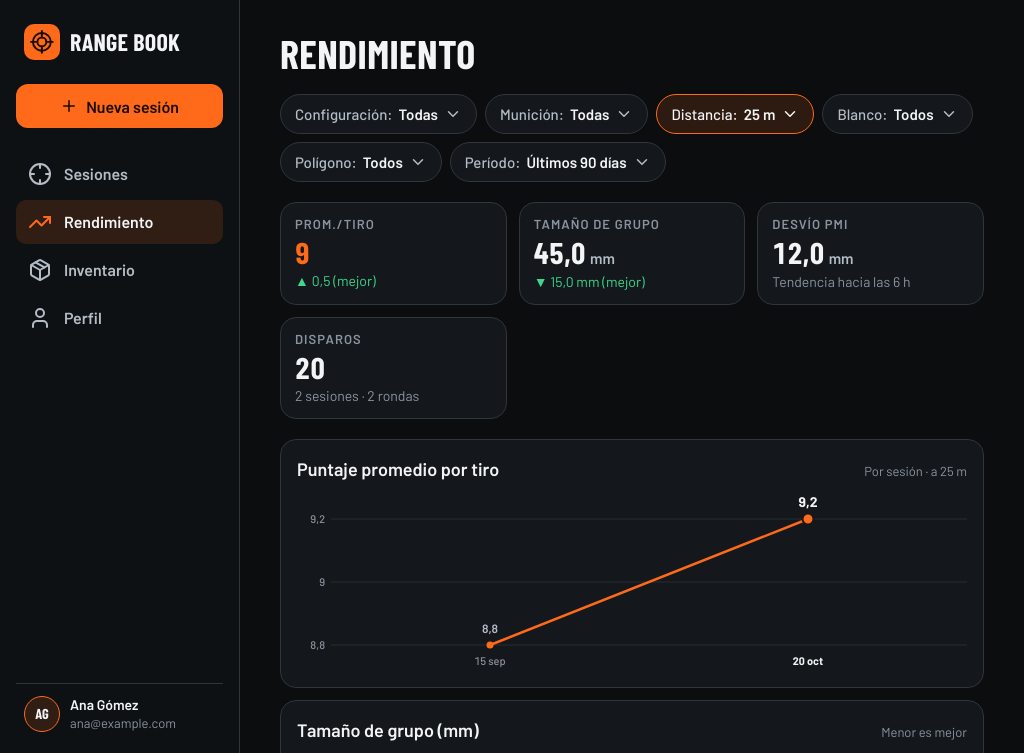
Test case: PerformanceScreen › en mobile, cada chip abre un sheet; elegir una opción filtra y queda en la URL
The width and height of the screenshot is (1024, 753).
Click the button "Munición: Todas" at (567, 114), box [485,94,648,134]
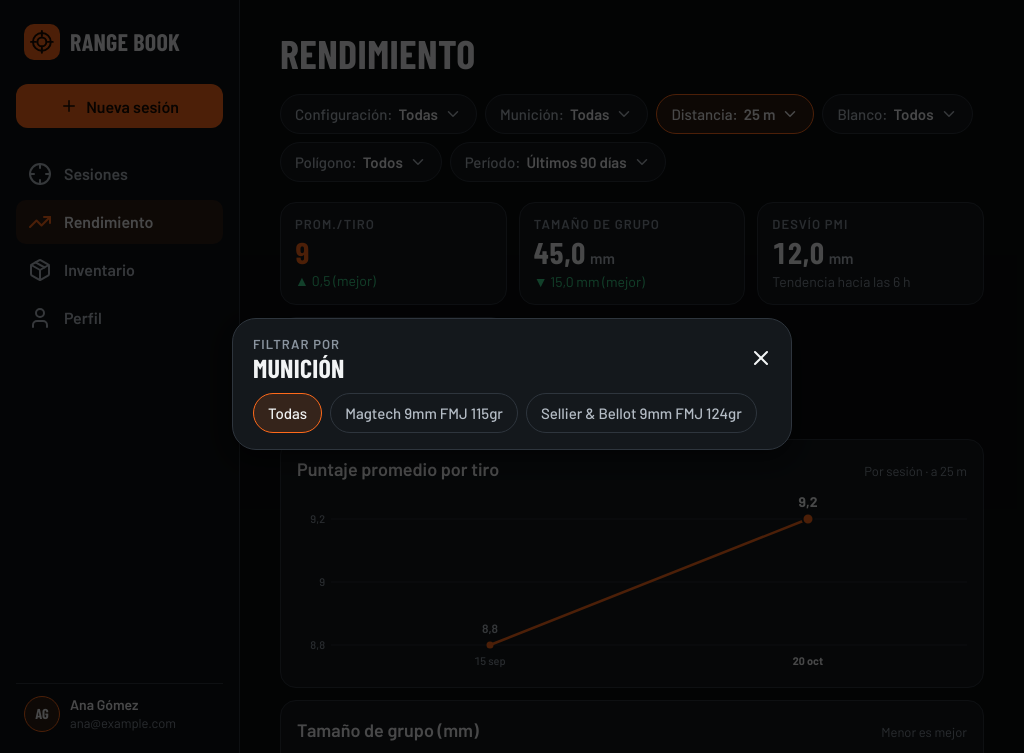
Click the button "Magtech 9mm FMJ 115gr" at (424, 413), box [330,393,518,433]
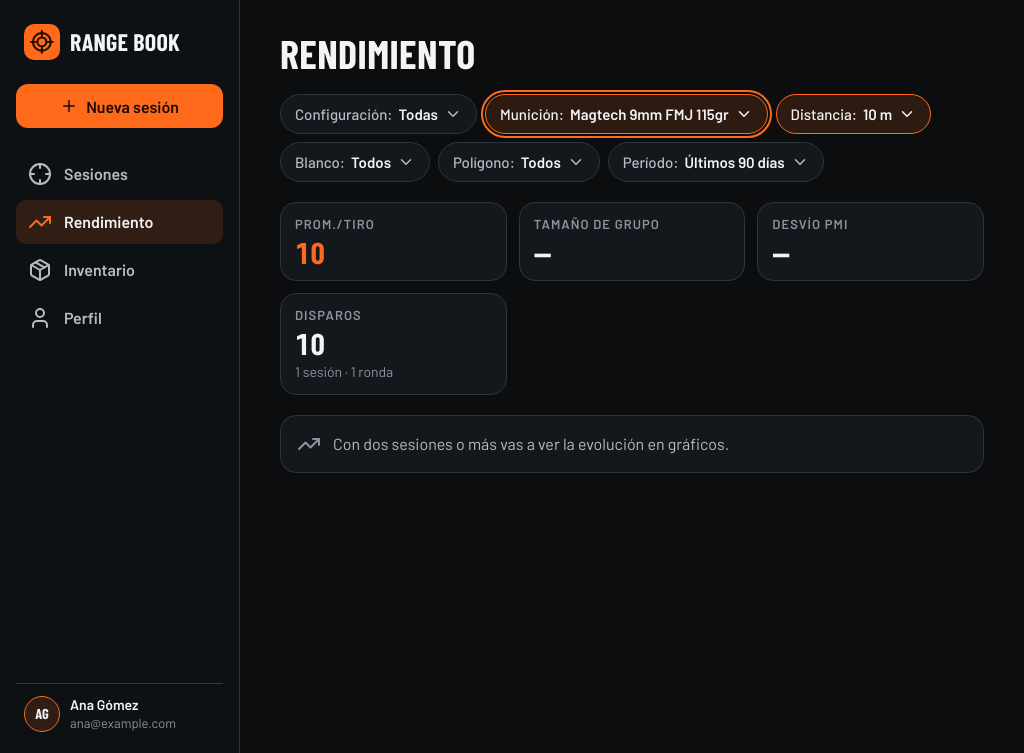
expect the dialog is gone: met
expect the button "Munición: Magtech 9mm FMJ 115gr" is shown: met, box [485,94,768,134]
